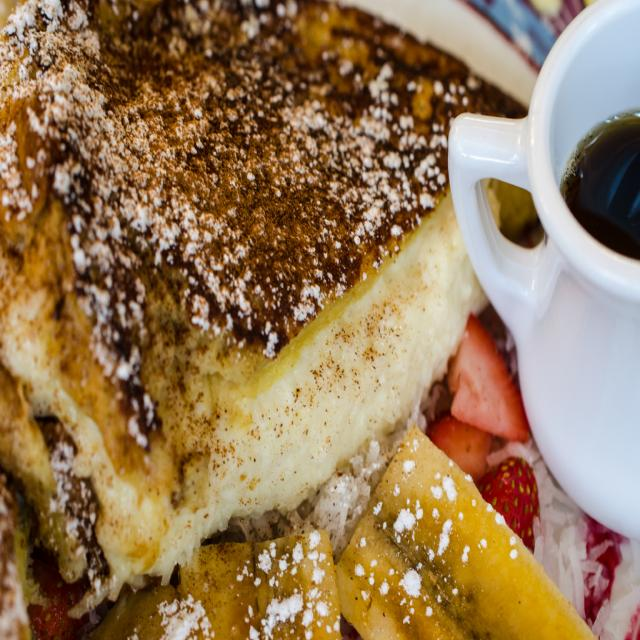Tea: (562, 103, 640, 264)
